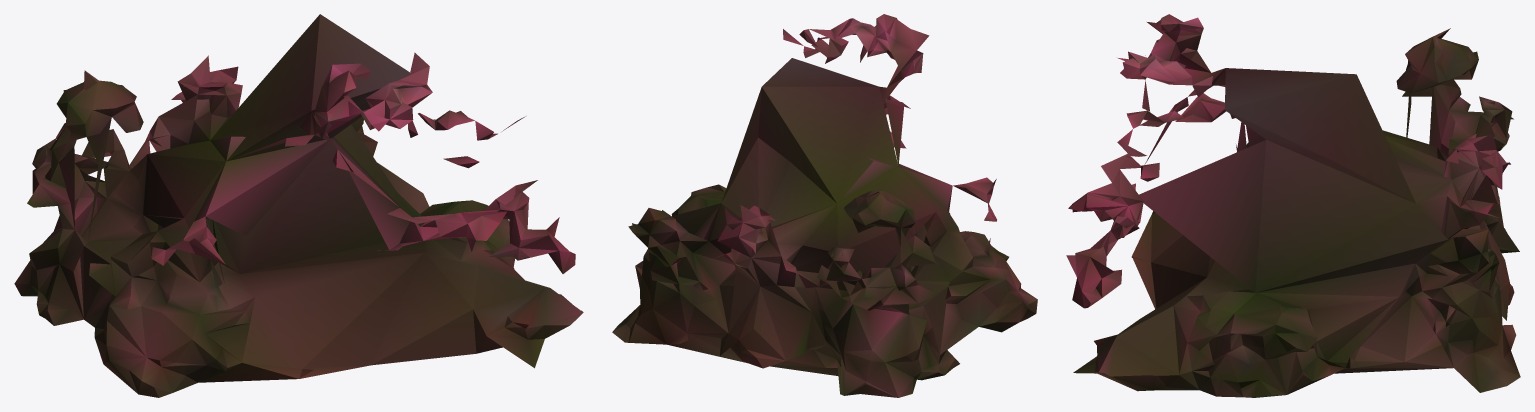
The model's file is lib_mtn_house.vc2.glb.
3 views of the same model, side by side, from view 1: azimuth 30°, elevation 25°; view 2: azimuth 150°, elevation 25°; view 3: azimuth 270°, elevation 25° (orthographic). The views are drawn at different scales.
Parts seen in each view (by area): view 1: lib_mtn_house; view 2: lib_mtn_house; view 3: lib_mtn_house.
Part boxes in pixels (left/top/right/bottom): lib_mtn_house: left=14, top=14, right=583, bottom=397; lib_mtn_house: left=612, top=14, right=1037, bottom=397; lib_mtn_house: left=1066, top=14, right=1520, bottom=397.
Size of the model in its own units: 1.97 by 1.4 by 1.94.
